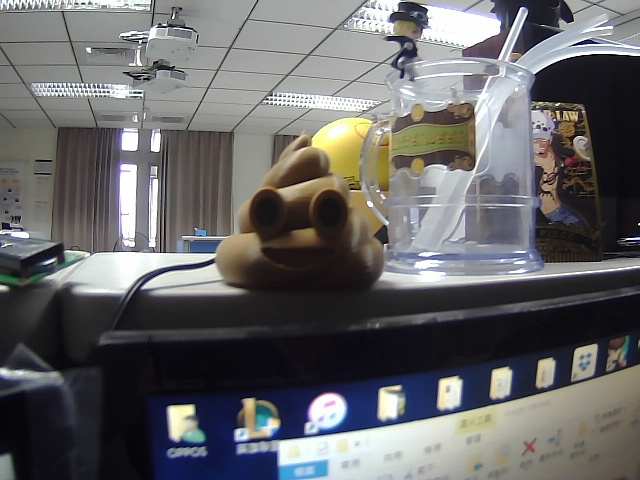shit: (208, 125, 390, 300)
